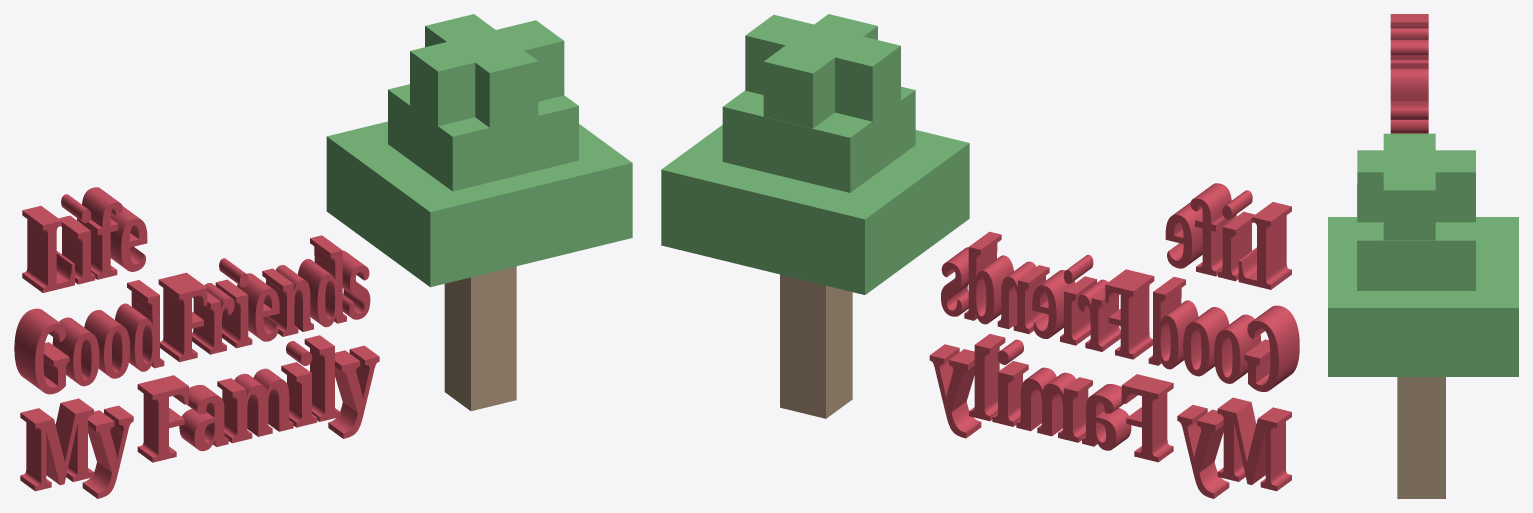
Rendered from Andreamythankfultree.glb.
3 renders of one model, left to right at view 1: azimuth 30°, elevation 25°; view 2: azimuth 150°, elevation 25°; view 3: azimuth 270°, elevation 25°, orthographic. The views are drawn at different scales.
Parts seen in each view (by area): view 1: Mesh_Mesh_head_geo.001_lambert2SG.001; view 2: Mesh_Mesh_head_geo.001_lambert2SG.001; view 3: Mesh_Mesh_head_geo.001_lambert2SG.001.
Part boxes in pixels (x1=…): Mesh_Mesh_head_geo.001_lambert2SG.001: x1=14, y1=14, x2=632, y2=498; Mesh_Mesh_head_geo.001_lambert2SG.001: x1=661, y1=14, x2=1299, y2=498; Mesh_Mesh_head_geo.001_lambert2SG.001: x1=1328, y1=14, x2=1518, y2=498.
Size of the model in its own units: 173 by 104 by 55.
